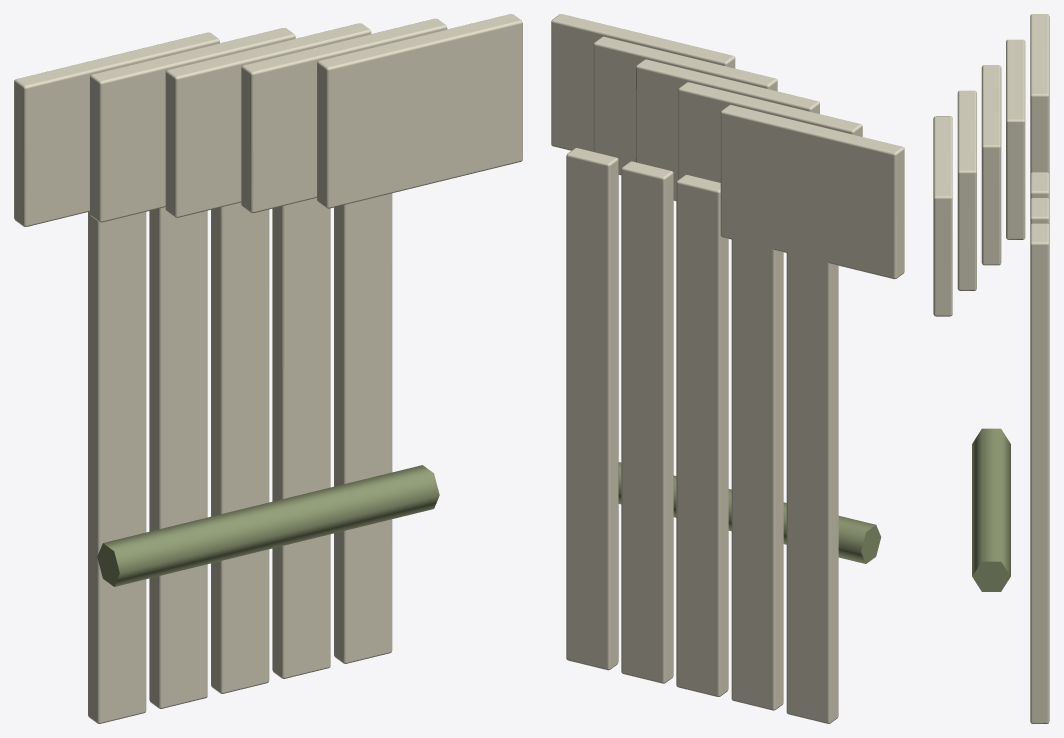
File: survival-greenhouse-and-irrigation-plant-label-bundle-f5871b28__21335.glb
3 views of the same model, side by side, from view 1: azimuth 30°, elevation 25°; view 2: azimuth 150°, elevation 25°; view 3: azimuth 270°, elevation 25° (orthographic). The views are drawn at different scales.
Visible parts, largest first — view 1: plant-label-bundle; view 2: plant-label-bundle; view 3: plant-label-bundle.
Boxes of the visible parts, x1=… form: plant-label-bundle: x1=14, y1=14, x2=522, y2=723; plant-label-bundle: x1=551, y1=14, x2=904, y2=723; plant-label-bundle: x1=933, y1=14, x2=1049, y2=723.
Bounding box in the file's own units: 0.18 × 0.255 × 0.048.
